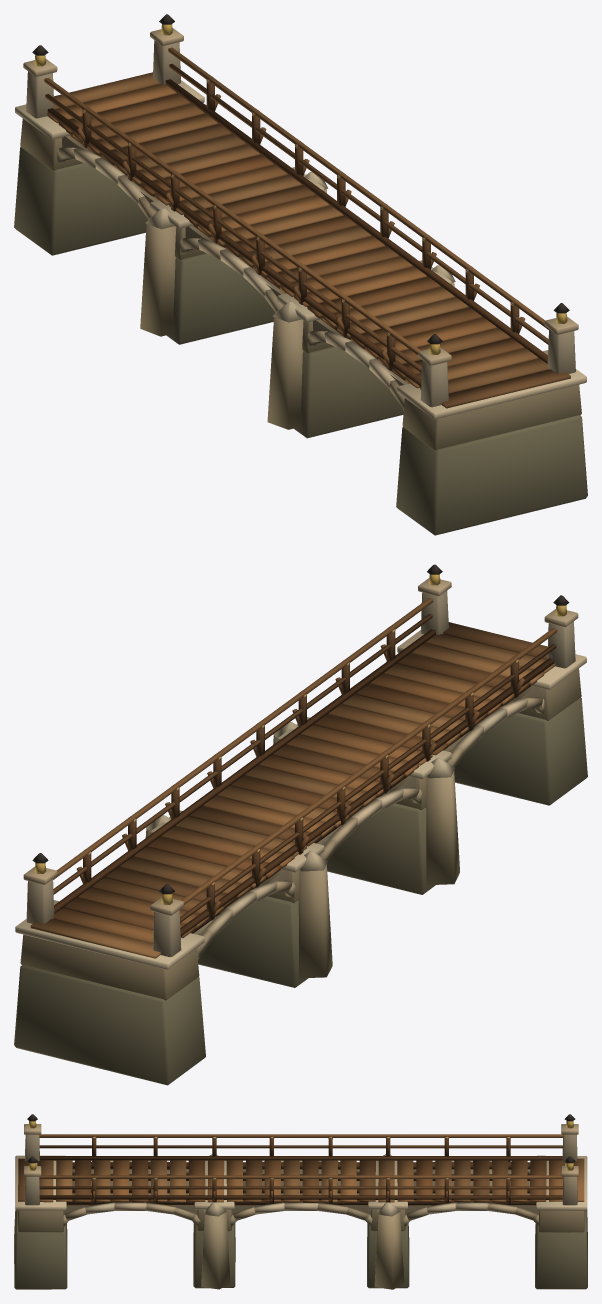
File: river_bridge.glb
3 renders of one model, top to bottom at view 1: azimuth 30°, elevation 25°; view 2: azimuth 150°, elevation 25°; view 3: azimuth 270°, elevation 25°, orthographic. The views are drawn at different scales.
Visible parts, largest first — view 1: river_bridge; view 2: river_bridge; view 3: river_bridge.
Part boxes in pixels (<box>): river_bridge: <box>14,14,587,535</box>; river_bridge: <box>14,564,587,1085</box>; river_bridge: <box>14,1114,587,1289</box>.
Size of what is drawn, in the model's own units: 5.26 by 5.08 by 20.5.
